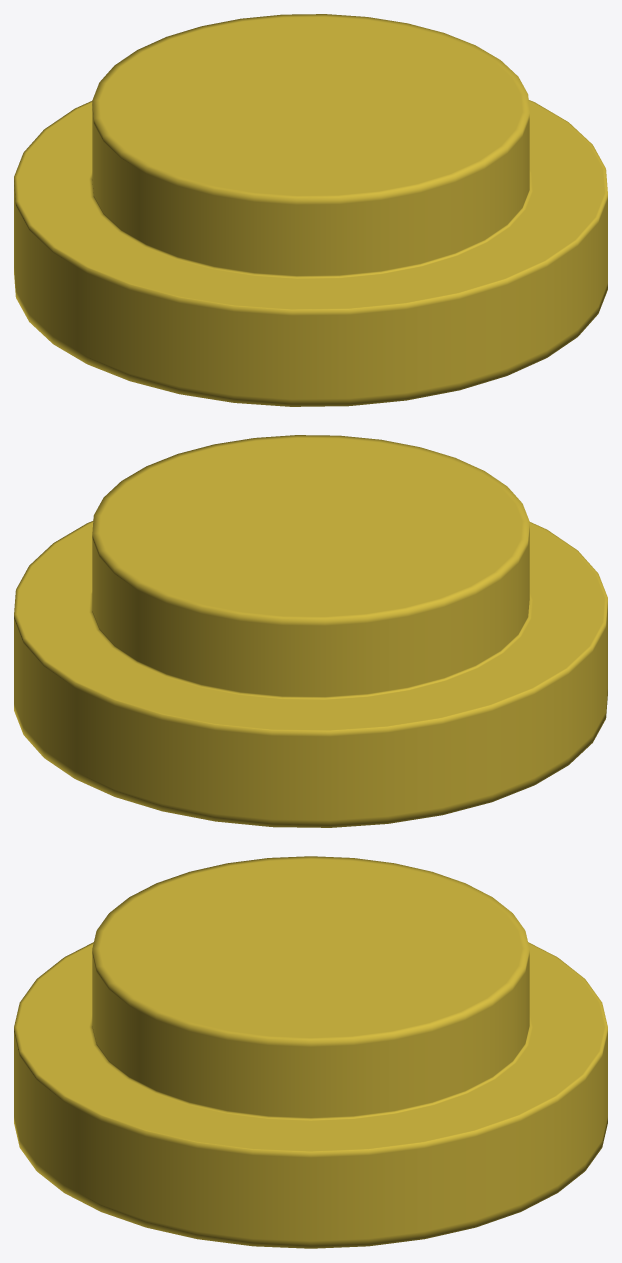
File: padestral.fbx
The picture shows the model from 3 angles, top to bottom: view 1: azimuth 30°, elevation 25°; view 2: azimuth 150°, elevation 25°; view 3: azimuth 270°, elevation 25°; orthographic projection.
Visible parts, largest first — view 1: high-polyMesh.003; view 2: high-polyMesh.003; view 3: high-polyMesh.003.
Boxes of the visible parts, left/top/right/bottom form: high-polyMesh.003: left=14, top=14, right=607, bottom=406; high-polyMesh.003: left=14, top=435, right=607, bottom=827; high-polyMesh.003: left=14, top=856, right=607, bottom=1248.
Size of the model in its own units: 12.26 by 3.98 by 12.26.
